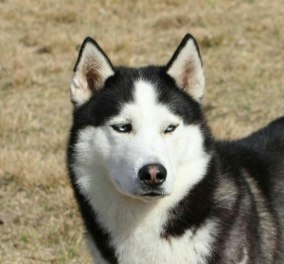husky: (58, 28, 279, 260)
